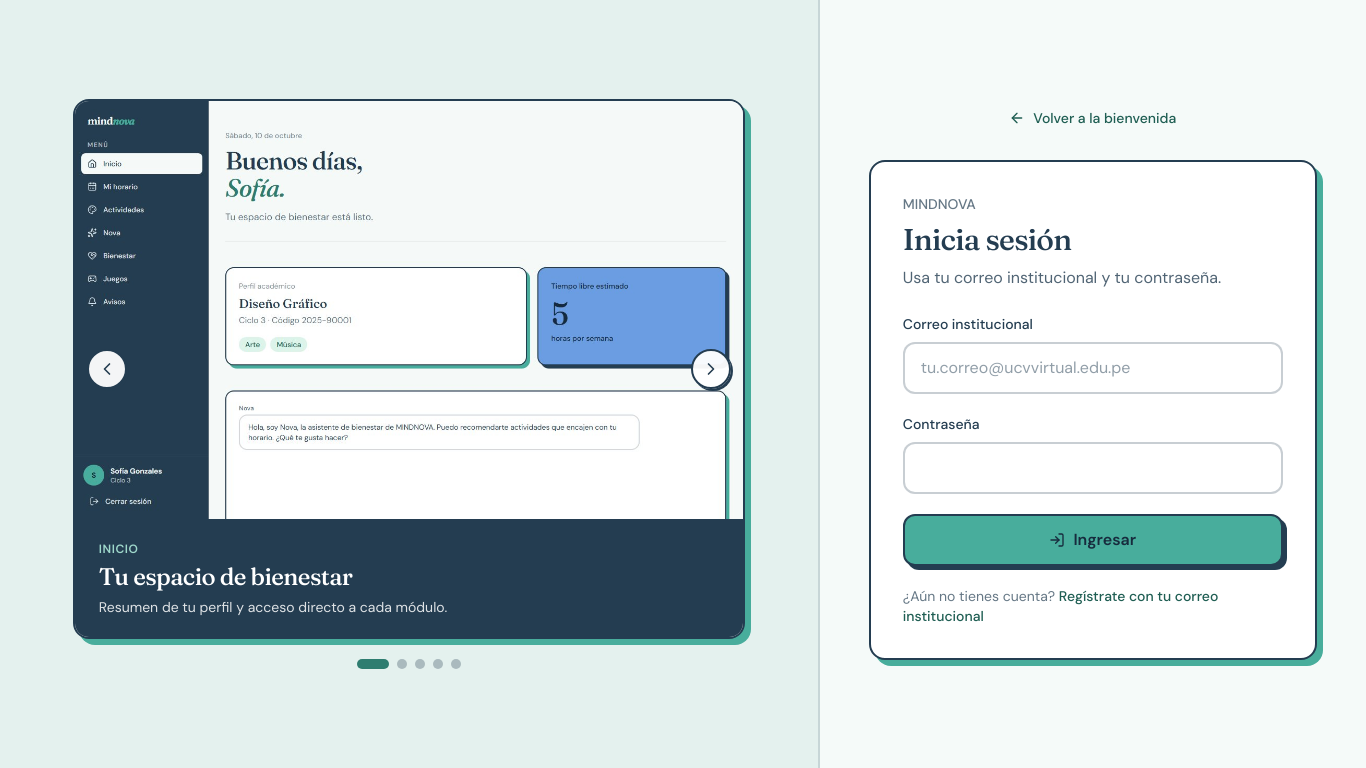
Test case: Inicio de sesión › pide correo y contraseña antes de enviar
Click the button "Ingresar": (1093, 540) [903, 514, 1283, 566]
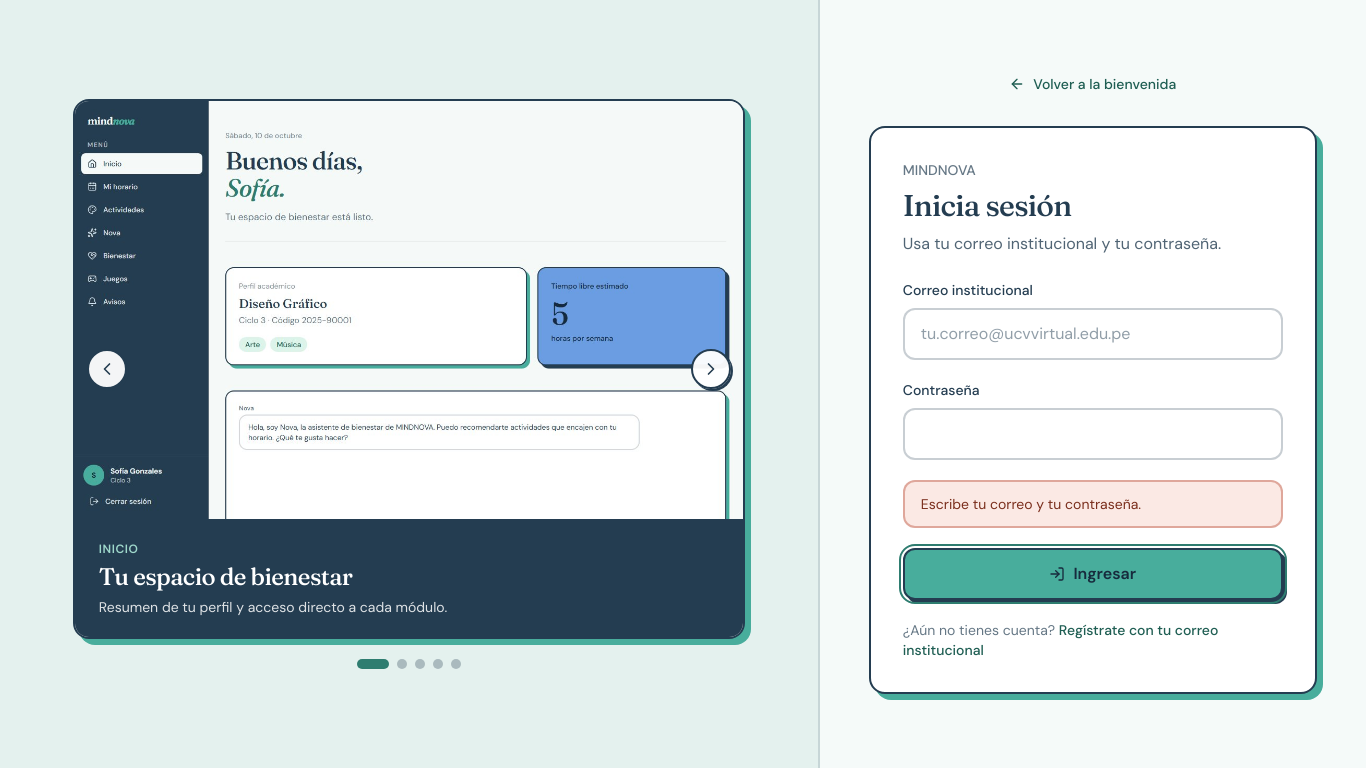
Expected: the message reads "Escribe tu correo y tu contraseña.", [921, 495, 1141, 513]
